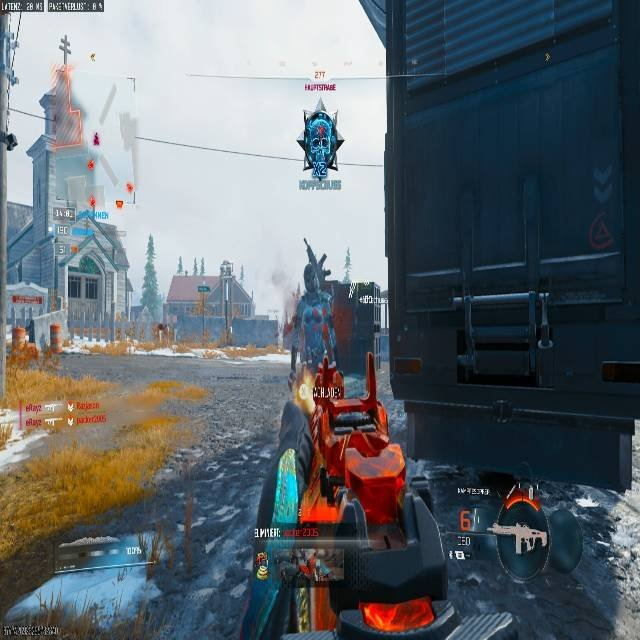player: (296, 110, 343, 178)
